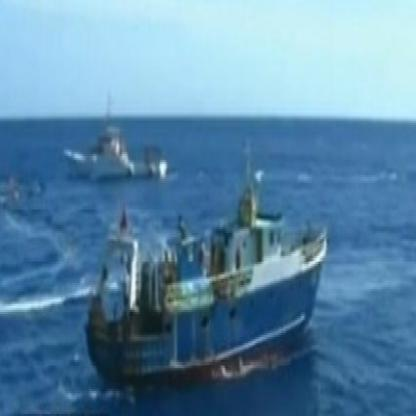fish-b: (84, 146, 333, 402)
